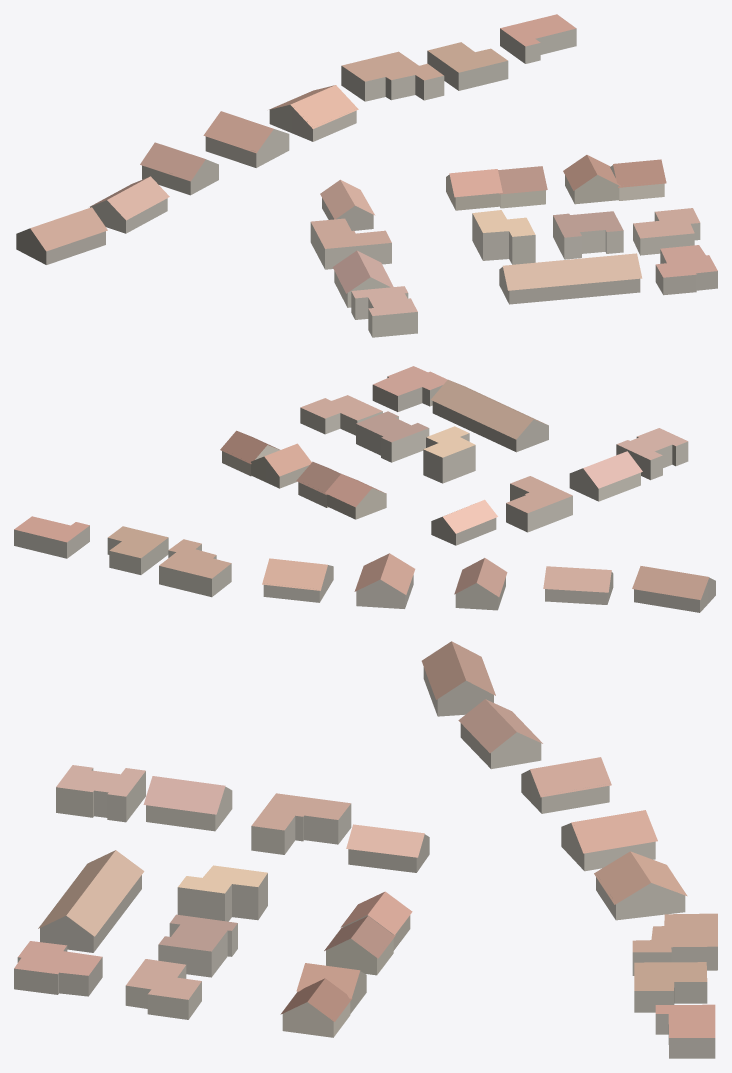
3 renders of one model, top to bottom at view 1: azimuth 30°, elevation 25°; view 2: azimuth 150°, elevation 25°; view 3: azimuth 270°, elevation 25°, orthographic. The views are drawn at different scales.
Visible parts, largest first — view 1: tuile; view 2: tuile; view 3: tuile.
Boxes of the visible parts, x1,y1,x2,y2 form: tuile: (16, 14, 717, 337); tuile: (14, 366, 715, 612); tuile: (14, 641, 717, 1058).
Size of the model in its own units: 164 by 13.14 by 131.
